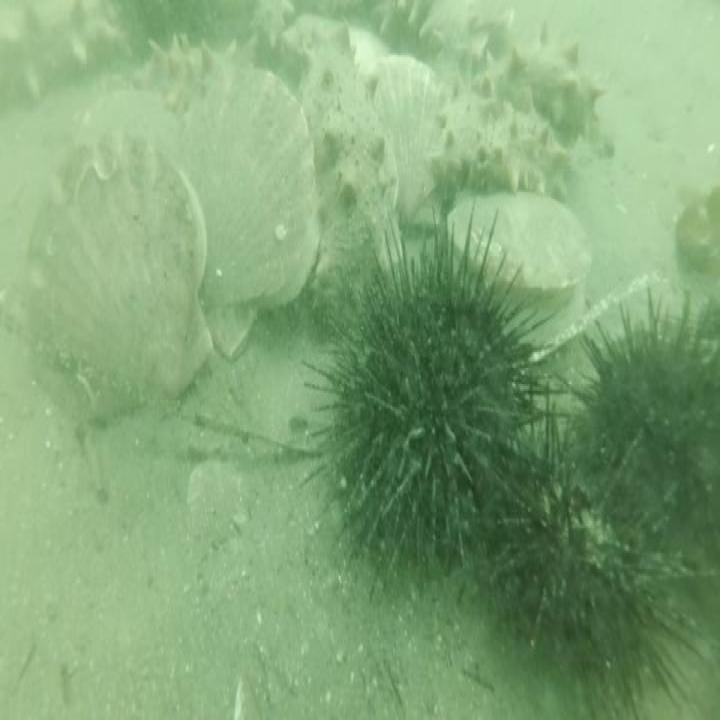echinus: (302, 204, 568, 601), (483, 384, 701, 720), (555, 277, 720, 587)
holothurian: (299, 18, 402, 338), (428, 66, 566, 194), (469, 21, 606, 144), (0, 0, 132, 119), (131, 30, 247, 110), (246, 0, 294, 52)
scallop: (20, 119, 215, 432), (176, 61, 321, 359), (439, 187, 594, 345), (371, 55, 447, 228), (418, 0, 516, 59)
